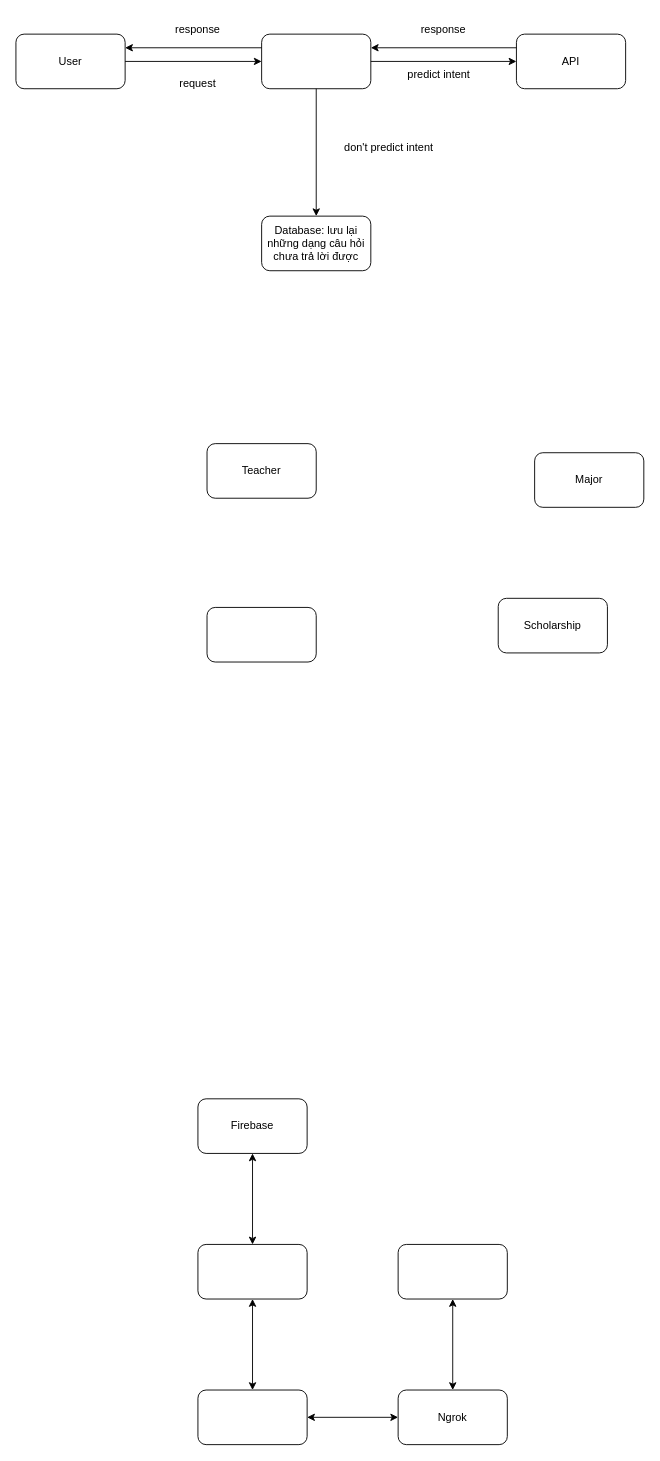
This 660x1461 diagram has some shape labels left out. The centre of each missing label's shape, as x and y in pixels:
"CHATBOT" belongs at point 316,61.
"Facebook" belongs at point 452,1271.
"Flask" belongs at point 252,1271.
"Rasa" belongs at point 252,1417.
